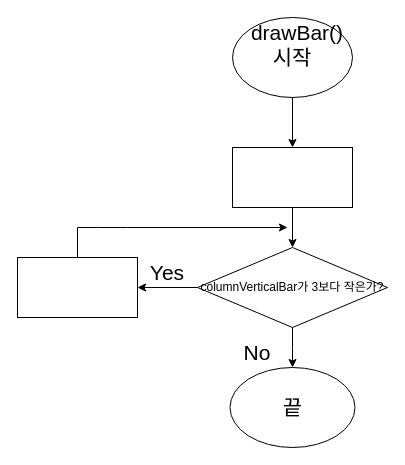
Image size: 405x465. Some labels were removed from this diagram. The centre of each missing label's shape, as x and y in pixels:
columnVerticalBar = 0: (x=292, y=177)
버티컬 바 출력 (" | |") columnVerticalBar에 1을 더한다: (x=77, y=287)
